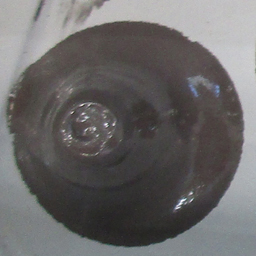perfect: (3, 16, 250, 248)
